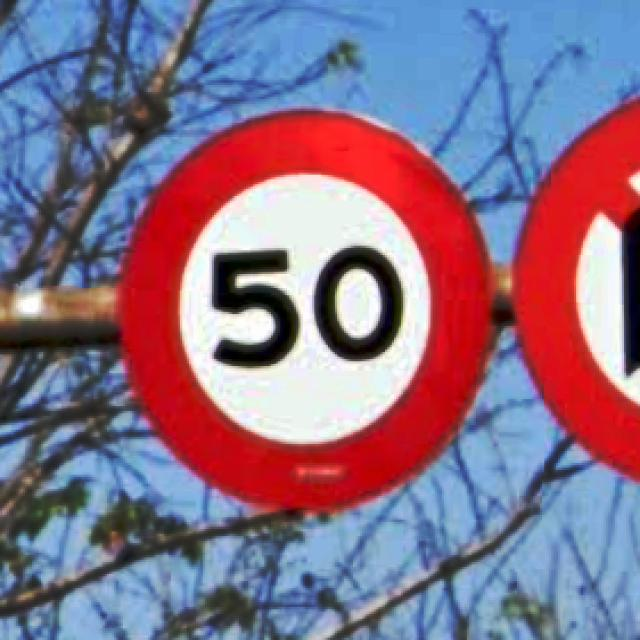max50: (120, 114, 493, 510)
